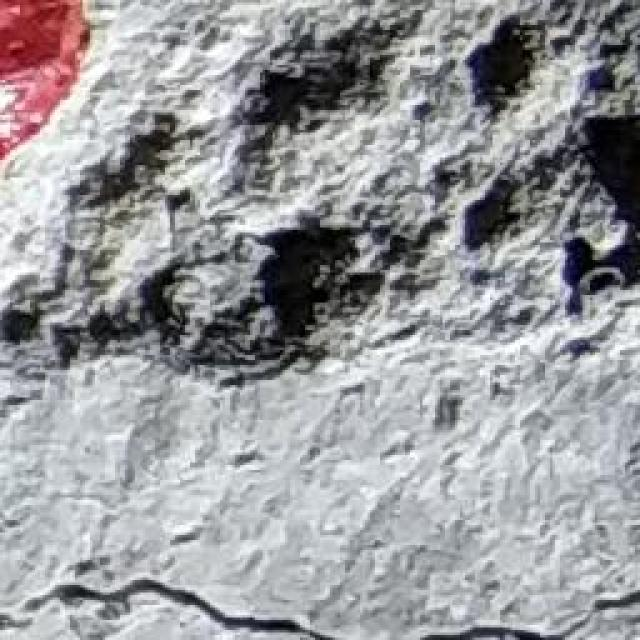Rippled: (0, 0, 640, 458)
Transverse: (2, 525, 640, 640)
